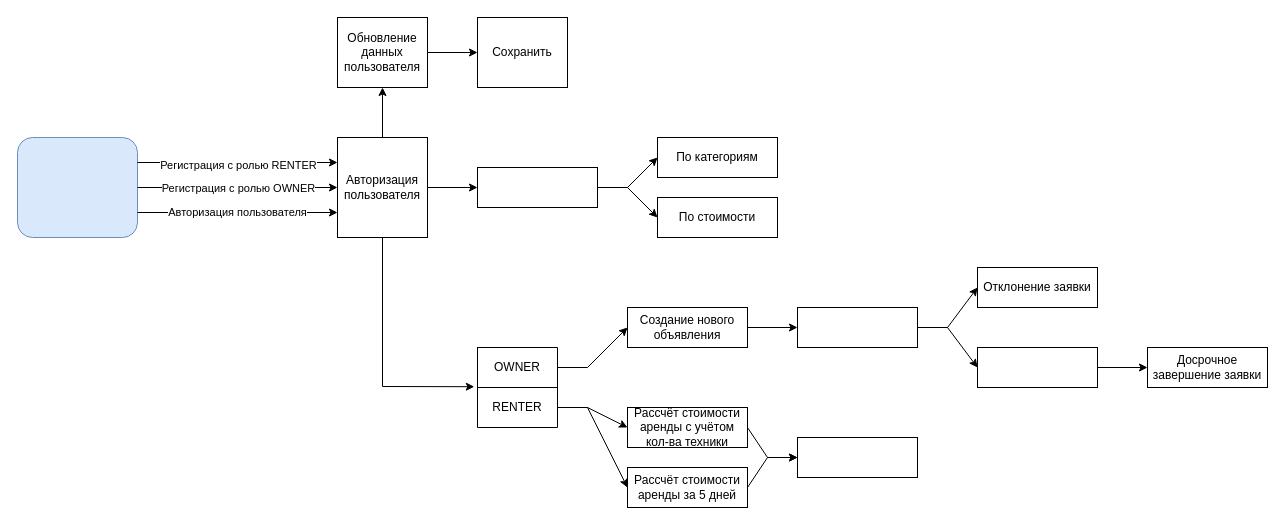
The diagram is 1285 pixels wide and 525 high, and some of its shapes have lost their labels. The box of each missing label's shape, as (x1, y1, x2, y2) in pixels:
Главная страница: (16, 136, 138, 238)
Изменение статусов заявки: (796, 306, 918, 348)
Одобрение заявки: (976, 346, 1098, 388)
Поиск техники: (476, 166, 598, 208)
Создание заявки на аренду: (796, 436, 918, 478)
